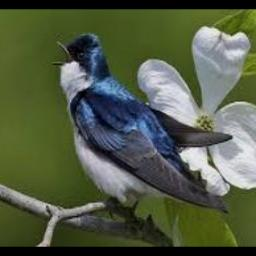Swallow: (51, 32, 232, 218)
